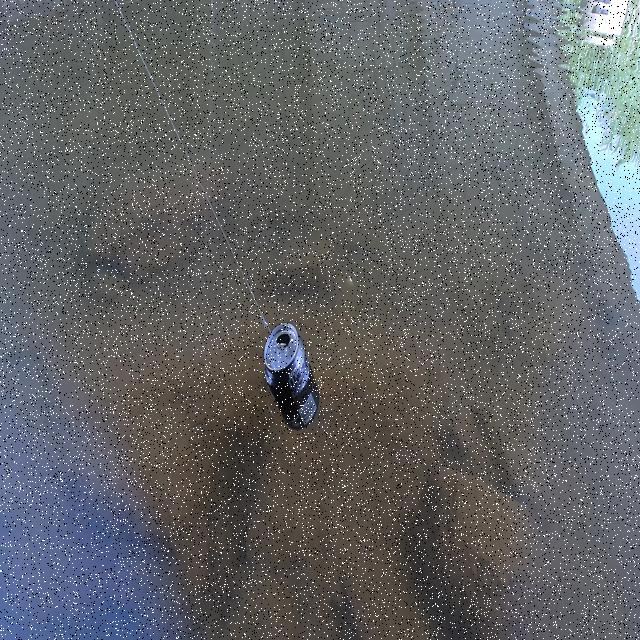Can: (262, 316, 322, 432)
